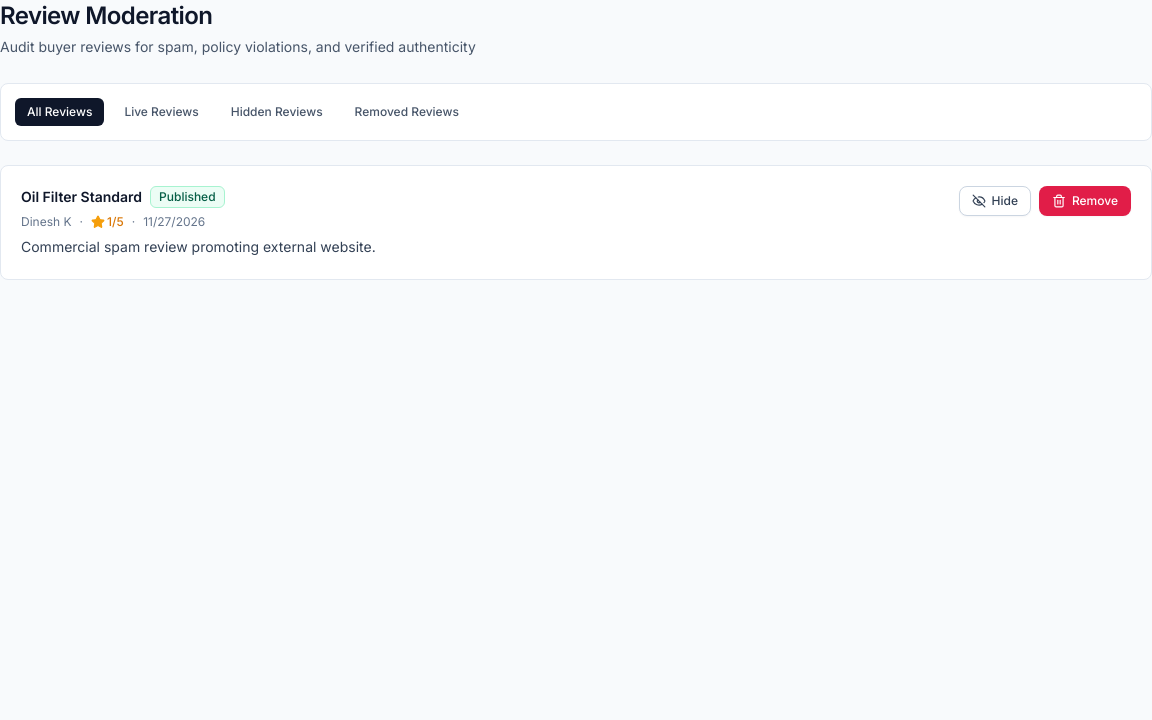
MOD-02 Seller & Administrator Workstations Tests › Renders administrator review moderation workstation and requires reason to hide review
Expected: the text "Oil Filter Standard" is shown, left=21, top=187, right=142, bottom=207
Expected: the text "Commercial spam review promoting external website." is shown, left=21, top=236, right=376, bottom=259
// Click Hide button
Click the button "Hide" at [995, 201], box left=958, top=186, right=1031, bottom=216
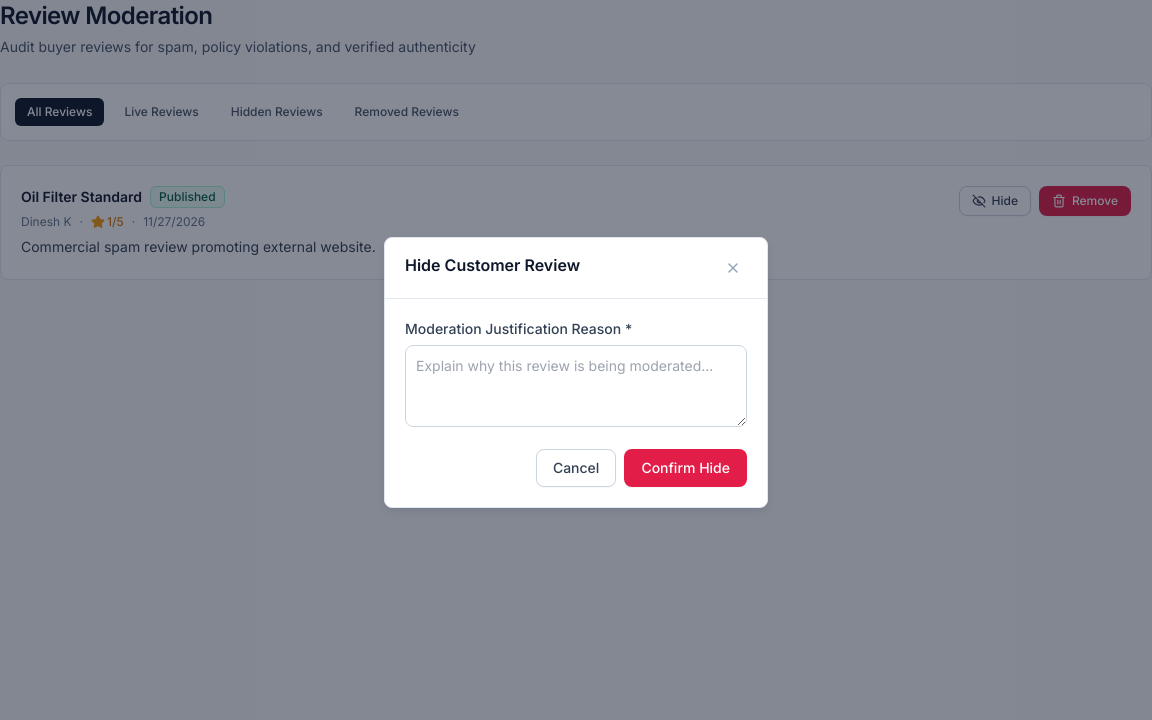
Expected: the heading "Hide Customer Review" is shown, left=405, top=254, right=580, bottom=276
Expected: the text "Moderation Justification Reason *" is shown, left=405, top=320, right=632, bottom=336
Click the button "Confirm Hide" at [686, 468], box left=624, top=448, right=747, bottom=486
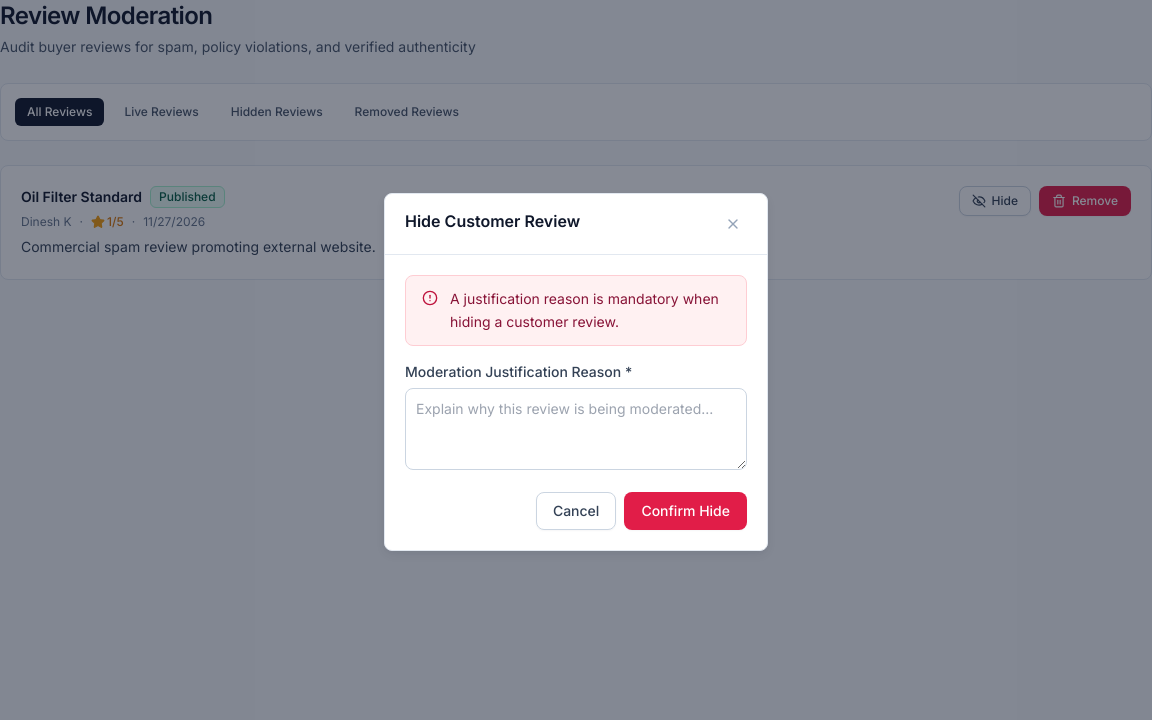
Expected: the text "A justification reason is mandatory when hiding a customer review" is shown, left=450, top=290, right=719, bottom=330
